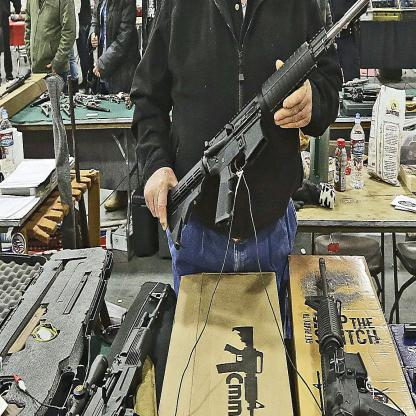gun: (135, 0, 400, 254), (16, 263, 178, 415), (298, 252, 416, 416)
